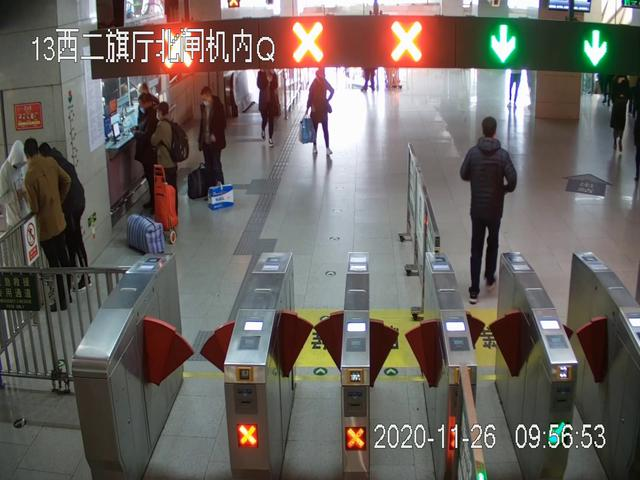person: (459, 117, 517, 305), (23, 137, 74, 310), (152, 101, 190, 209), (133, 92, 166, 211), (197, 86, 228, 195), (3, 139, 29, 262), (302, 66, 334, 156), (257, 68, 281, 148), (608, 77, 631, 155)
